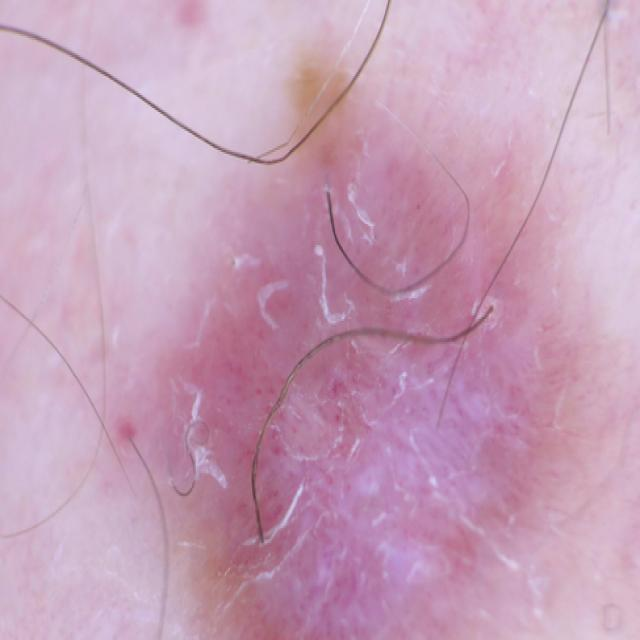Dermatofibroma: (118, 131, 586, 640)
